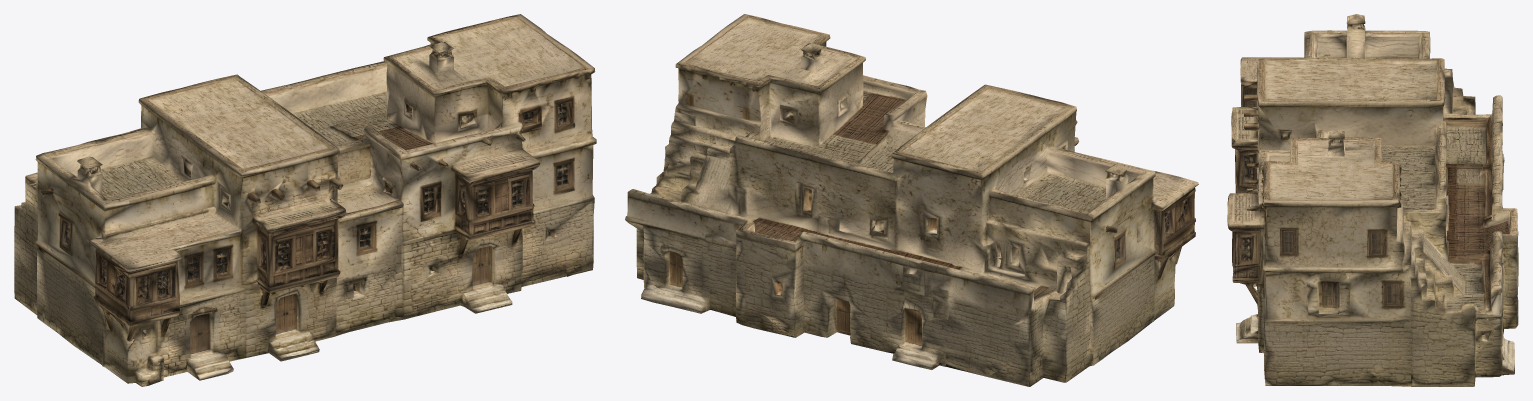
File: city_van_townhouses.glb
3 renders of one model, left to right at view 1: azimuth 30°, elevation 25°; view 2: azimuth 150°, elevation 25°; view 3: azimuth 270°, elevation 25°, orthographic. The views are drawn at different scales.
Visible parts, largest first — view 1: Mesh1.0; view 2: Mesh1.0; view 3: Mesh1.0.
Part boxes in pixels (box(x1,y1,x2,y2)): Mesh1.0: box(14, 14, 596, 386); Mesh1.0: box(625, 14, 1198, 386); Mesh1.0: box(1227, 14, 1518, 386).
Size of the model in its own units: 26.7 by 12 by 15.34.
1 material, 1 textured.
